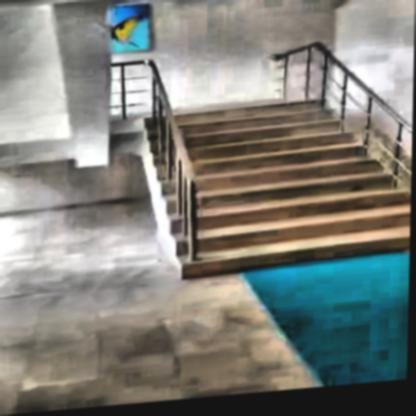stair: (139, 90, 416, 276)
